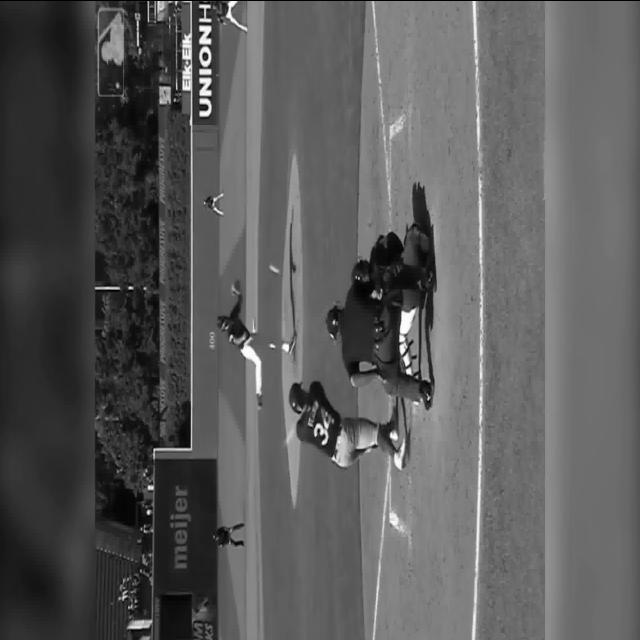baseball: (269, 264, 279, 274)
baseball_glove: (231, 280, 241, 296)
shoe: (393, 429, 408, 471), (419, 380, 434, 410), (421, 266, 437, 292), (388, 405, 398, 441), (288, 332, 296, 354), (256, 392, 262, 408)
